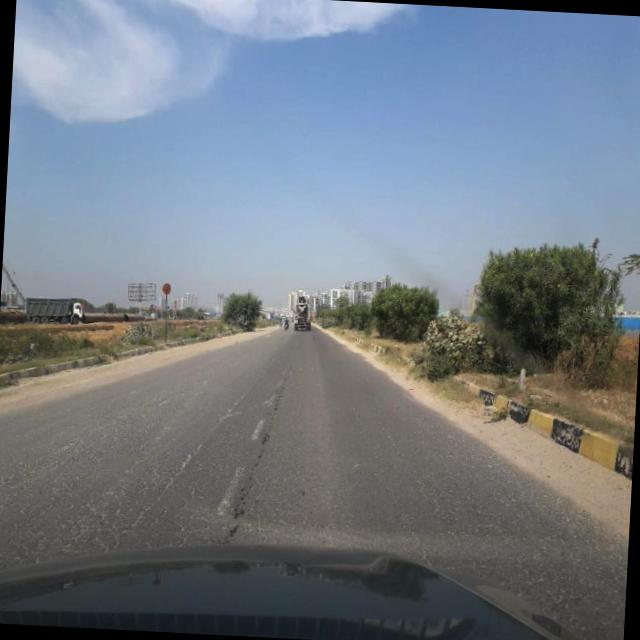crack: (0, 415, 625, 582)
pothole: (134, 384, 248, 526)
